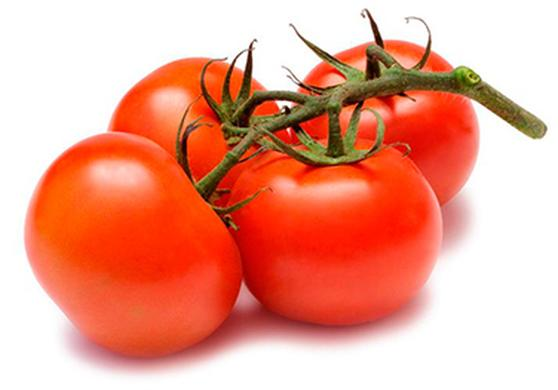tomato: (24, 133, 247, 355), (239, 134, 438, 325)
